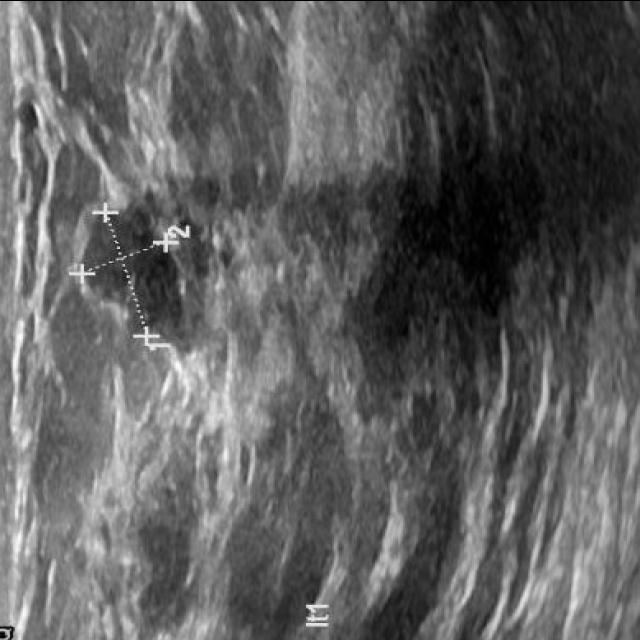Benign: (76, 215, 174, 321)
